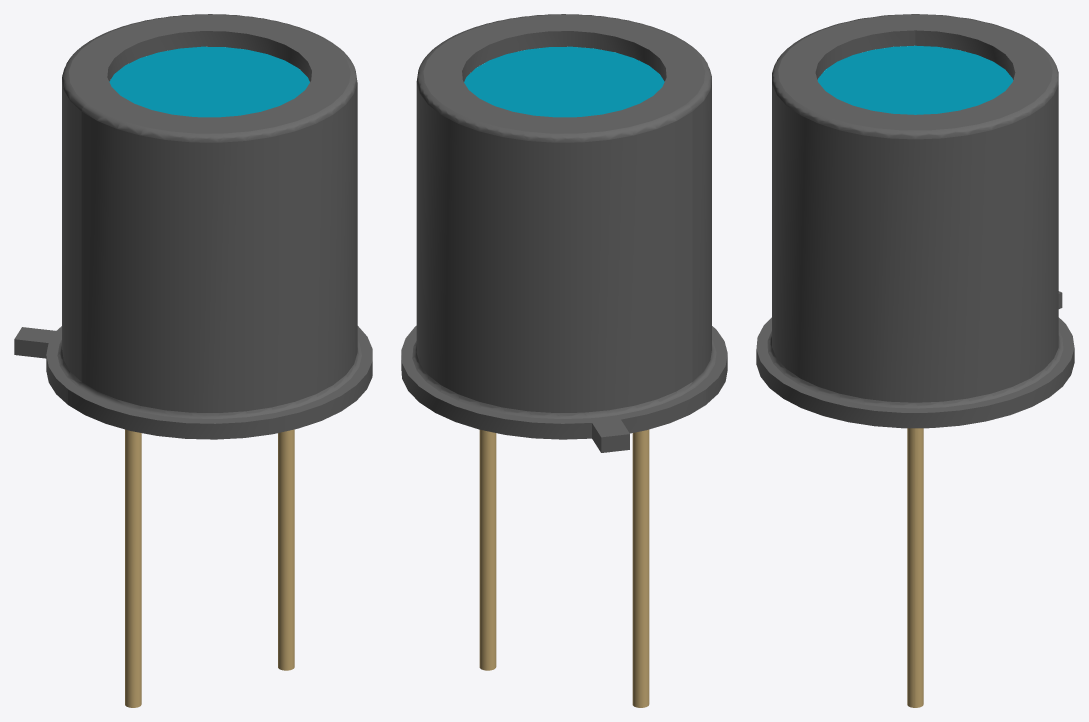
File: kc-to-11-2_window.glb
3 views of the same model, side by side, from view 1: azimuth 30°, elevation 25°; view 2: azimuth 150°, elevation 25°; view 3: azimuth 270°, elevation 25° (orthographic). The views are drawn at different scales.
Parts seen in each view (by area): view 1: 0.16666666666666666_0.16666666666666666_0.16666666666666666_, 0_0.3333333333333333_0.5_0, 0.75_0.5_0.25_0.9; view 2: 0.16666666666666666_0.16666666666666666_0.16666666666666666_, 0_0.3333333333333333_0.5_0, 0.75_0.5_0.25_0.9; view 3: 0.16666666666666666_0.16666666666666666_0.16666666666666666_, 0_0.3333333333333333_0.5_0, 0.75_0.5_0.25_0.9.
Part boxes in pixels (<box>): 0.16666666666666666_0.16666666666666666_0.16666666666666666_: <box>14,14,372,439</box>; 0_0.3333333333333333_0.5_0: <box>109,46,309,117</box>; 0.75_0.5_0.25_0.9: <box>125,429,294,707</box>; 0.16666666666666666_0.16666666666666666_0.16666666666666666_: <box>401,14,727,452</box>; 0_0.3333333333333333_0.5_0: <box>464,46,664,117</box>; 0.75_0.5_0.25_0.9: <box>479,429,649,707</box>; 0.16666666666666666_0.16666666666666666_0.16666666666666666_: <box>756,14,1074,428</box>; 0_0.3333333333333333_0.5_0: <box>817,45,1013,114</box>; 0.75_0.5_0.25_0.9: <box>907,428,923,707</box>.
Size of the model in its own units: 0.9386 by 1.94 by 0.9392.
